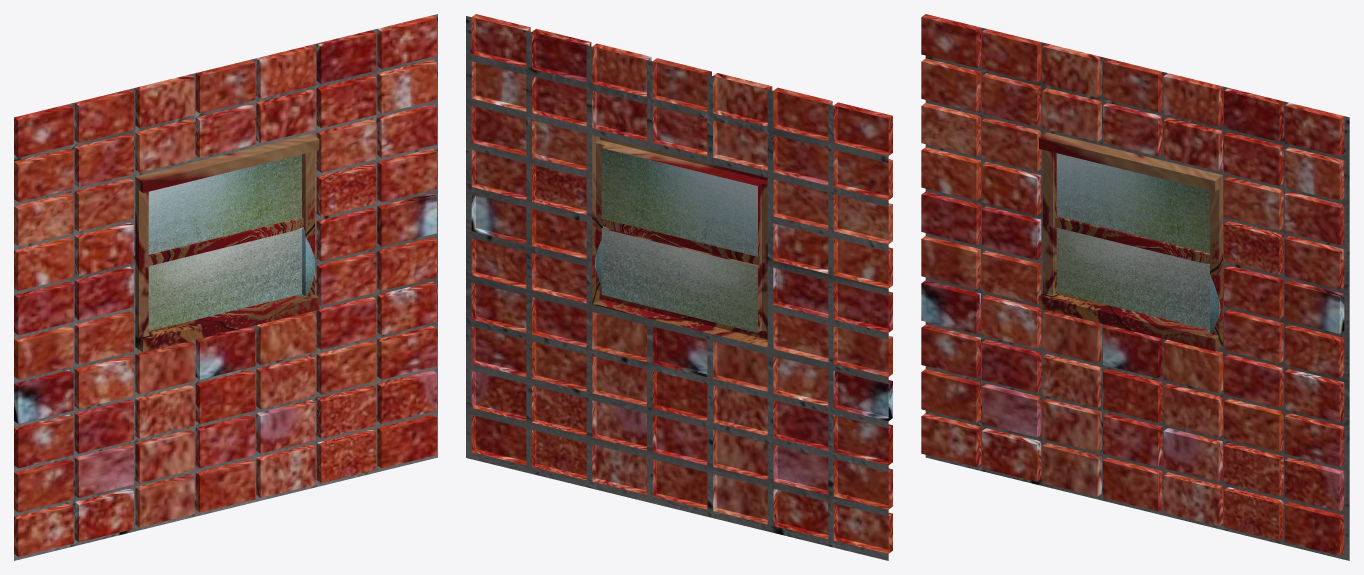
File: Pared_013.fbx
The picture shows the model from 3 angles, left to right: view 1: azimuth 30°, elevation 25°; view 2: azimuth 150°, elevation 25°; view 3: azimuth 330°, elevation 25°; orthographic projection.
Parts seen in each view (by area): view 1: Plane; view 2: Plane; view 3: Plane.
Part boxes in pixels (bbox=[...]): Plane: bbox=[14, 14, 437, 560]; Plane: bbox=[466, 14, 892, 560]; Plane: bbox=[921, 14, 1349, 560].
Bounding box in the file's own units: 600 × 600 × 19.49.
